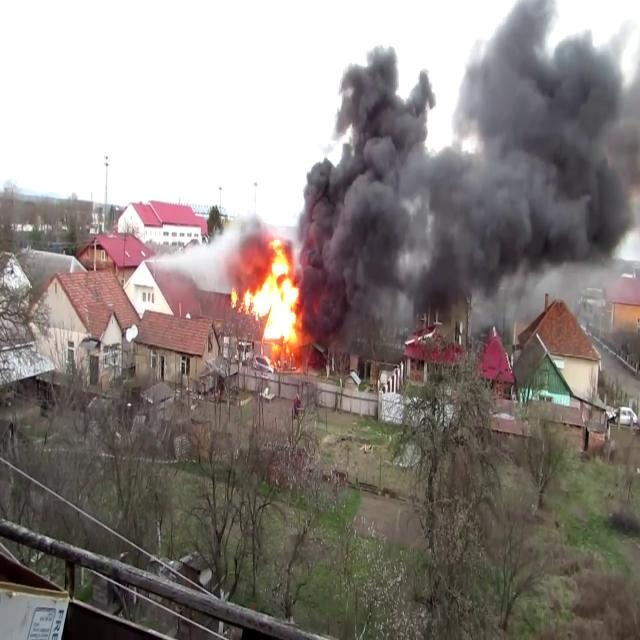Fire: (240, 246, 304, 346)
Smoke: (293, 1, 640, 326)
